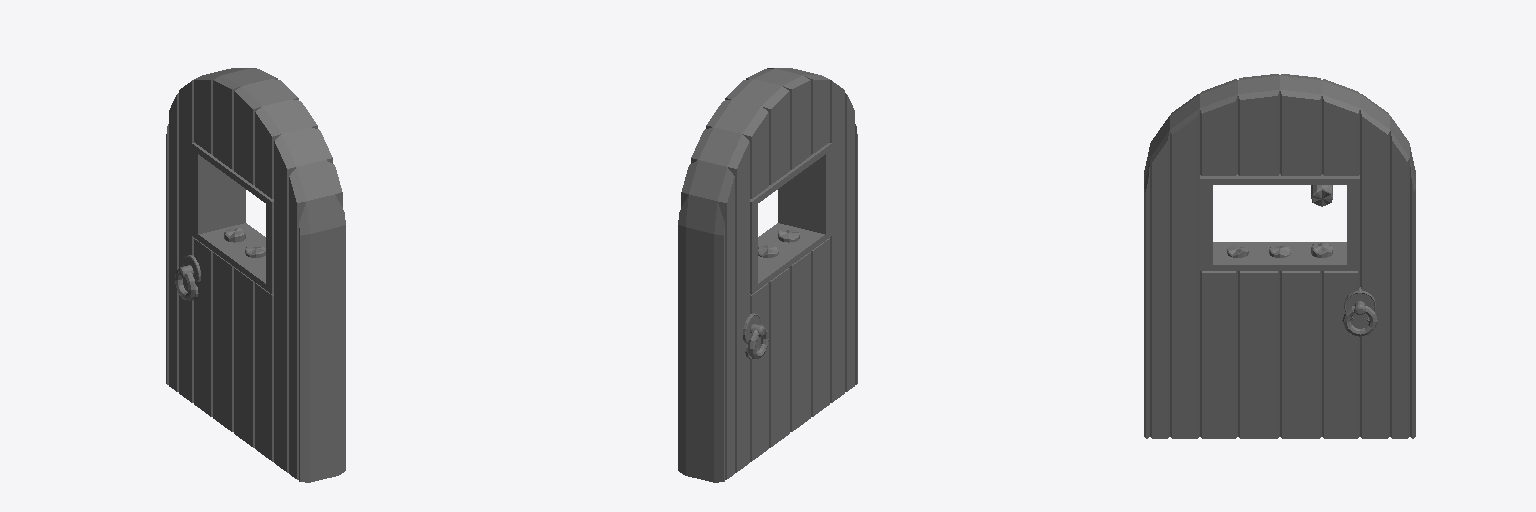
The model's file is Locked_Door.obj.
3 views of the same model, side by side, from view 1: azimuth 30°, elevation 25°; view 2: azimuth 150°, elevation 25°; view 3: azimuth 270°, elevation 25° (orthographic).
Parts seen in each view (by area): view 1: Locked_Door_Base; view 2: Locked_Door_Base; view 3: Locked_Door_Base.
Boxes of the visible parts, x1,y1,x2,y2 form: Locked_Door_Base: [166, 68, 345, 482]; Locked_Door_Base: [678, 68, 857, 482]; Locked_Door_Base: [1144, 74, 1415, 438].
Bounding box in the file's own units: 155 × 718 × 511.